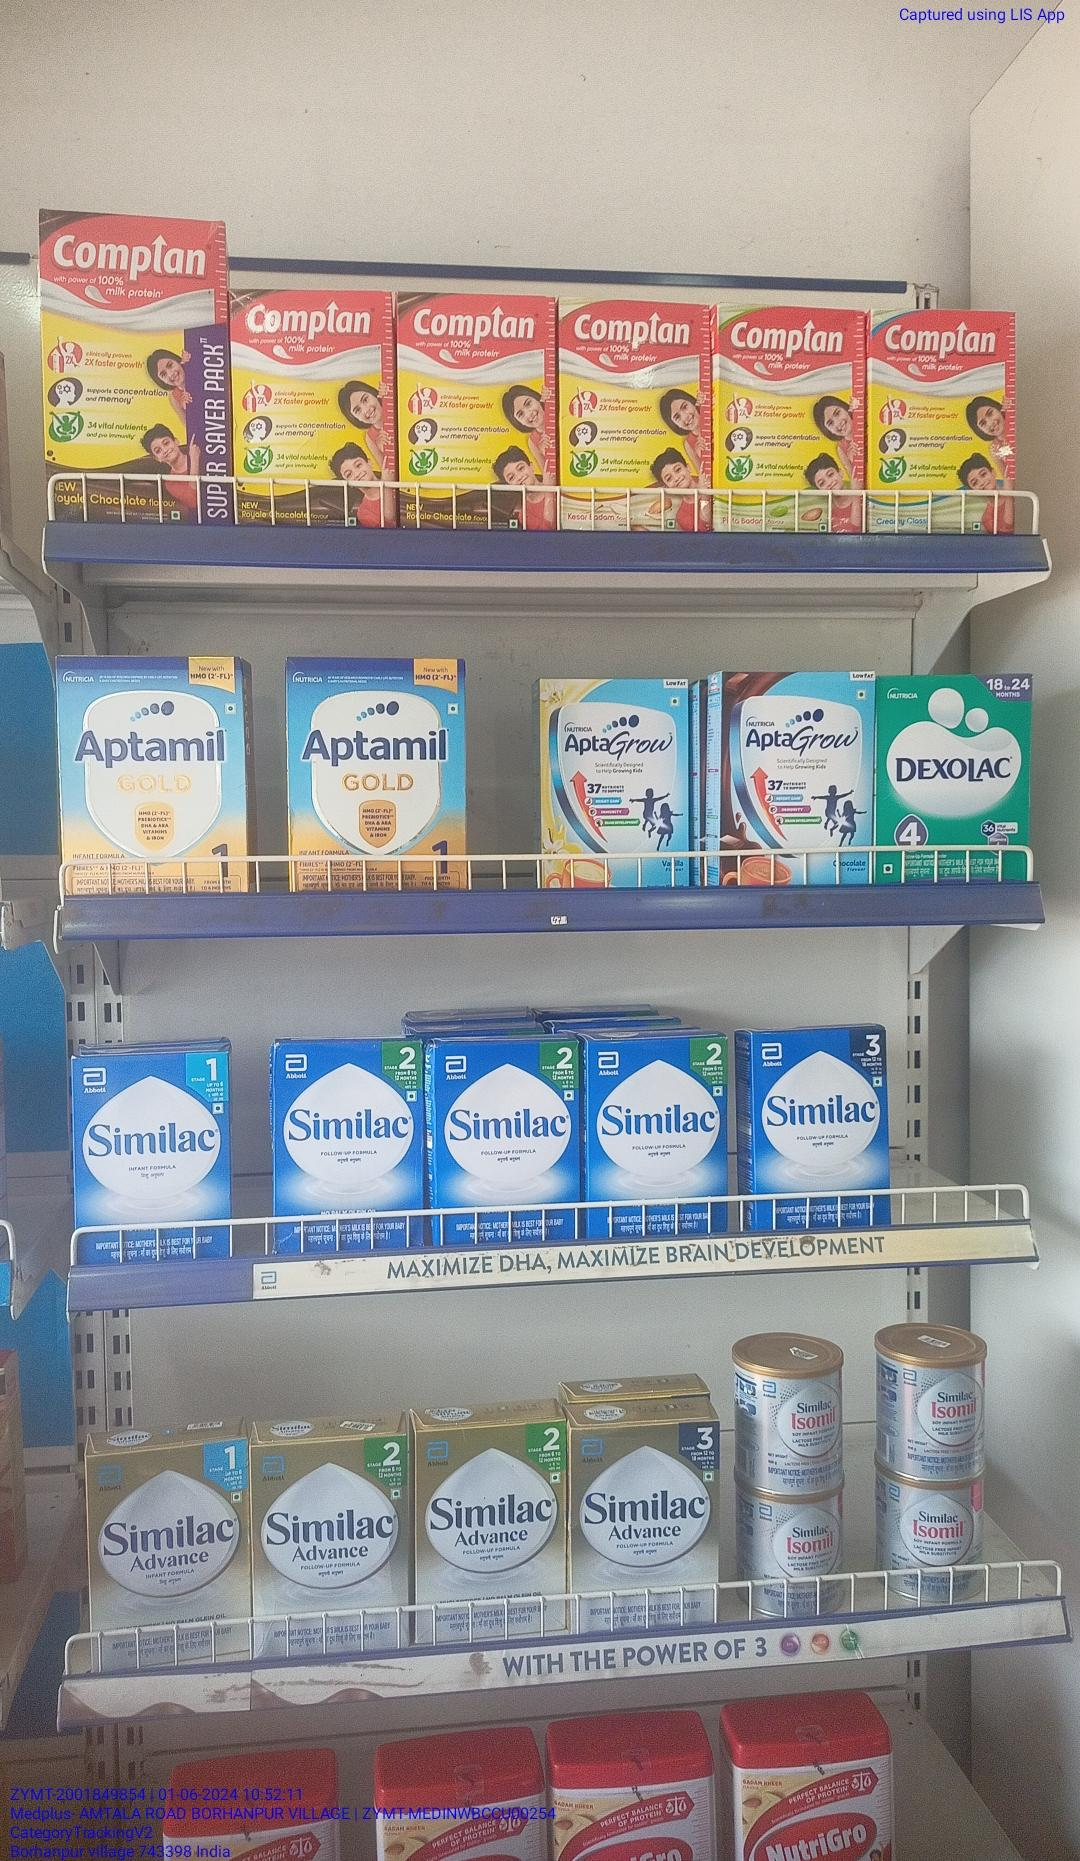COMPLAN_CHOCOLATE_1_KG_PACK: (40, 209, 226, 522)
COMPLAN_CHOCOLATE_500_GMS_PACK: (397, 292, 554, 532), (231, 292, 390, 524)
COMPLAN_CREAMY_CLASSIC_500_G_PACK: (867, 307, 1016, 533)
COMPLAN_KESAR_BADAM_500_GMS_PACK: (561, 298, 714, 533)
COMPLAN_PISTA_BADAM_500_GMS_PACK: (721, 303, 860, 532)
